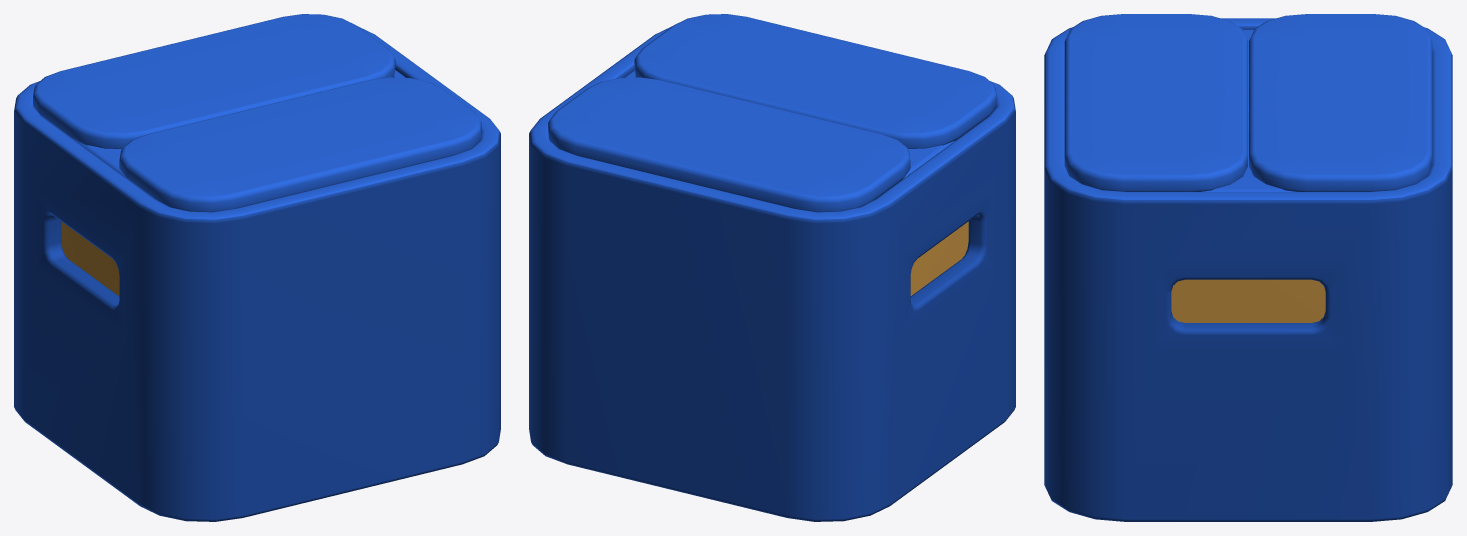
3 views of the same model, side by side, from view 1: azimuth 30°, elevation 25°; view 2: azimuth 150°, elevation 25°; view 3: azimuth 270°, elevation 25° (orthographic). The views are drawn at different scales.
Visible parts, largest first — view 1: box4_color, top1_R3, top1_L3, box4_inner, top2_R3; view 2: box4_color, top1_L3, top1_R3, box4_inner, top2_R3; view 3: box4_color, top1_L3, top1_R3, box4_inner, top2_L3.
Part boxes in pixels (x1,y1,x2,y2): box4_color: [14, 26, 500, 521]; top1_R3: [119, 77, 481, 212]; top1_L3: [33, 14, 395, 148]; box4_inner: [61, 221, 119, 295]; top2_R3: [74, 140, 126, 178]; box4_color: [529, 26, 1015, 521]; top1_L3: [548, 77, 910, 212]; top1_R3: [634, 14, 996, 148]; box4_inner: [910, 221, 968, 295]; top2_R3: [903, 140, 955, 178]; box4_color: [1044, 18, 1452, 521]; top1_L3: [1249, 14, 1432, 191]; top1_R3: [1064, 14, 1247, 191]; box4_inner: [1171, 279, 1325, 322]; top2_L3: [1201, 111, 1295, 191].
Bounding box in the file's own units: 11.2 × 9.65 × 10.56.
